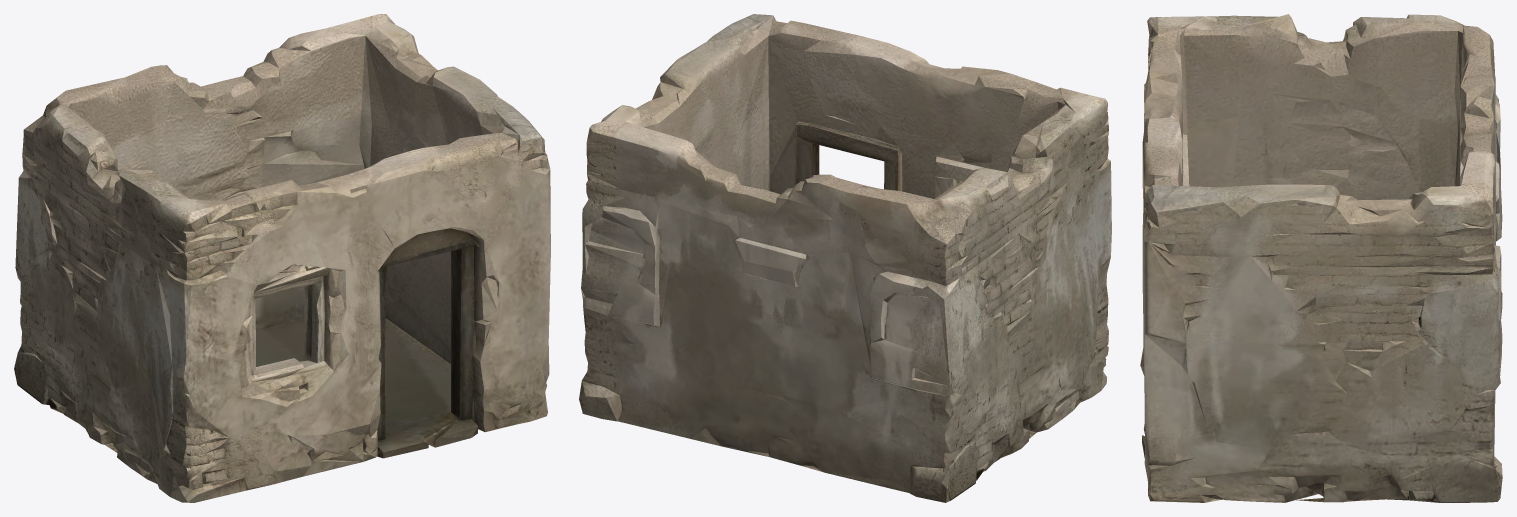
Rendered from house.glb.
3 views of the same model, side by side, from view 1: azimuth 30°, elevation 25°; view 2: azimuth 150°, elevation 25°; view 3: azimuth 270°, elevation 25° (orthographic). The views are drawn at different scales.
Bounding box in the file's own units: 1.9 × 1.42 × 1.52.
1 material, 1 textured.
